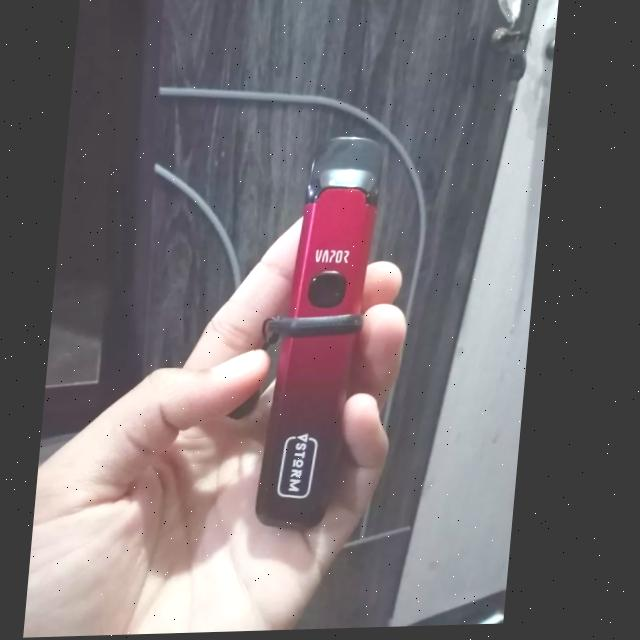vape: (264, 135, 394, 532)
